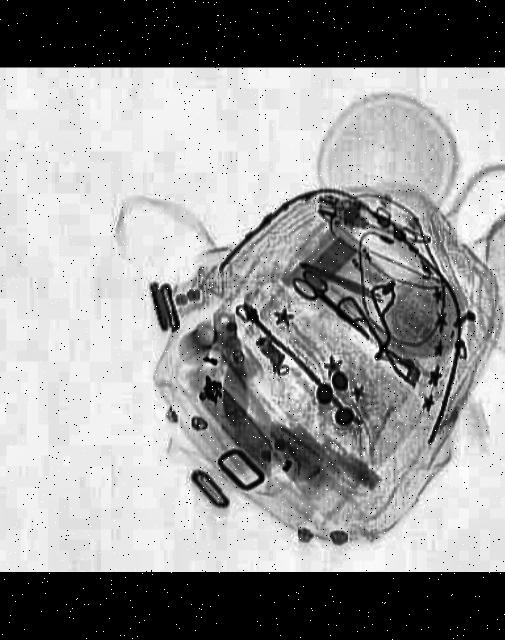Scissors: (289, 263, 378, 344)
